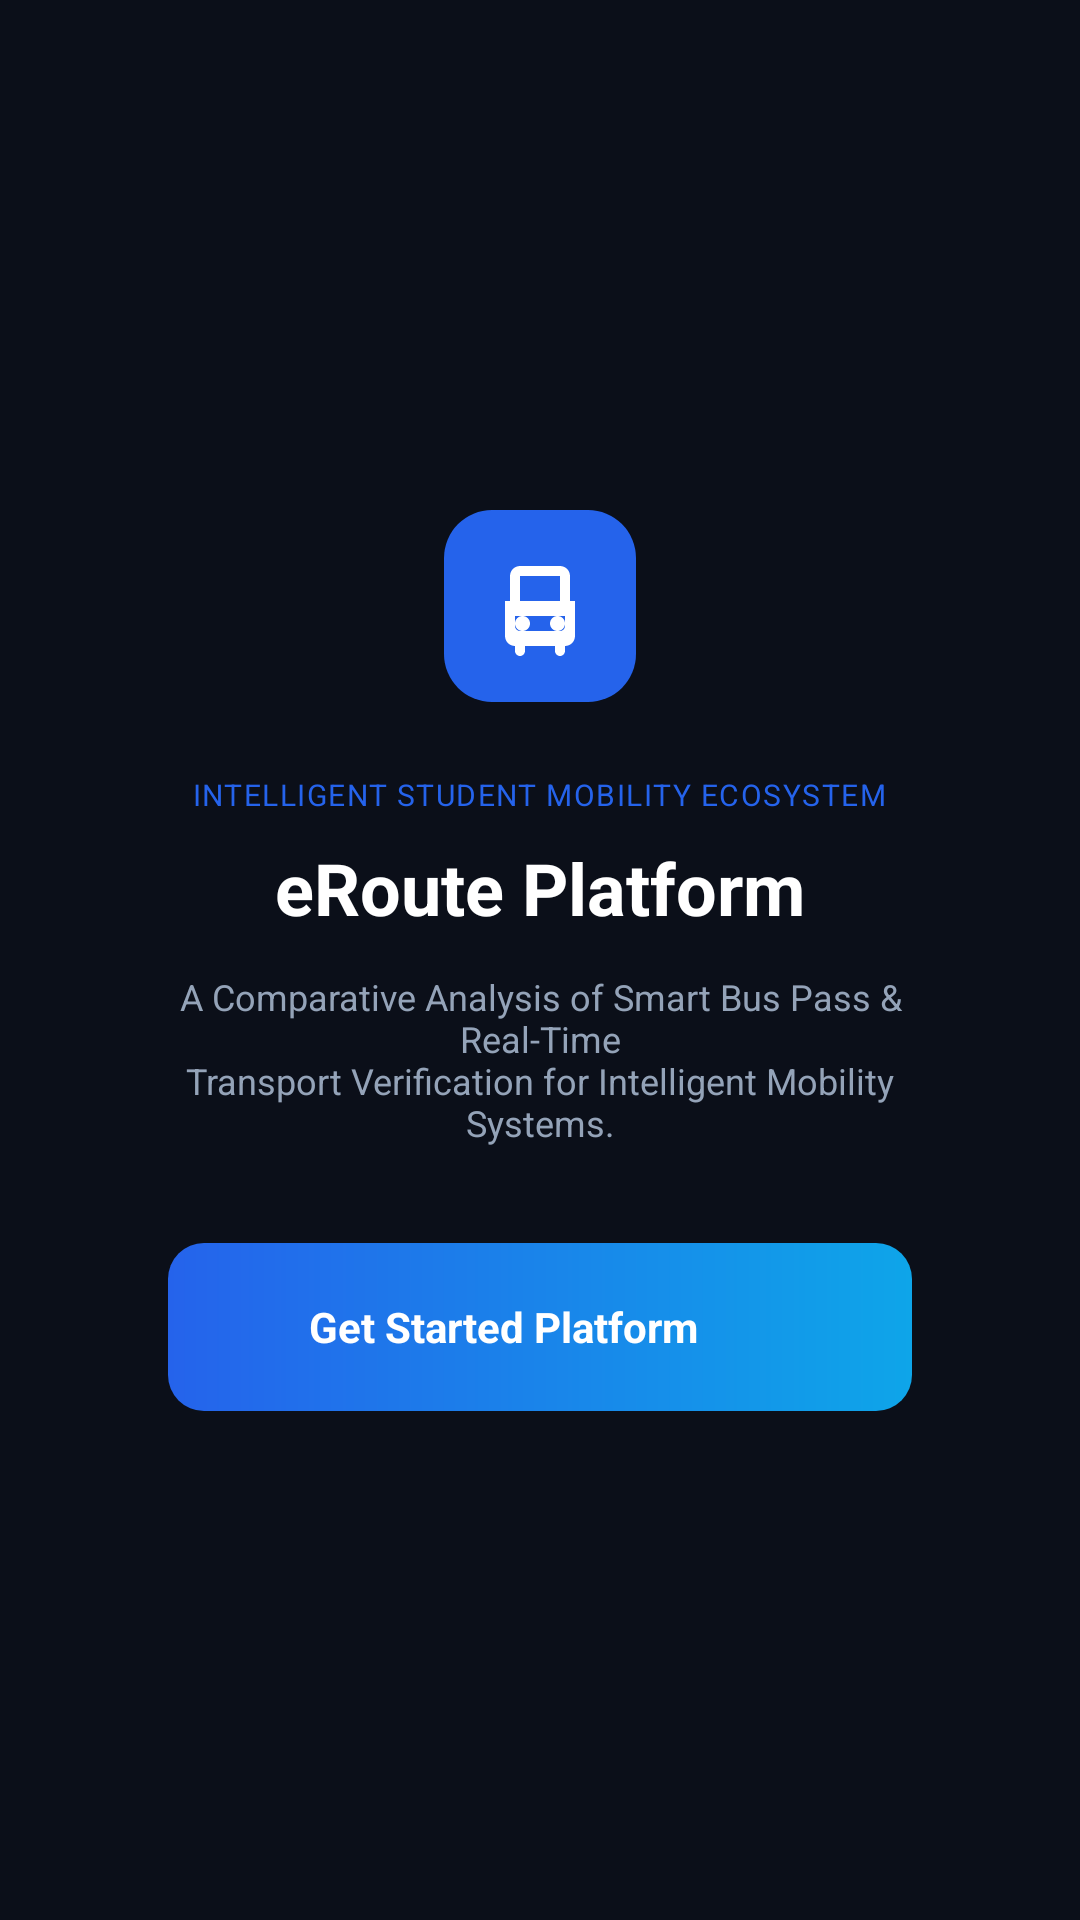

Icons on this 1080px×1920px Android screen, each with the point to tap as point (x, y):
bus: point (540, 611)
